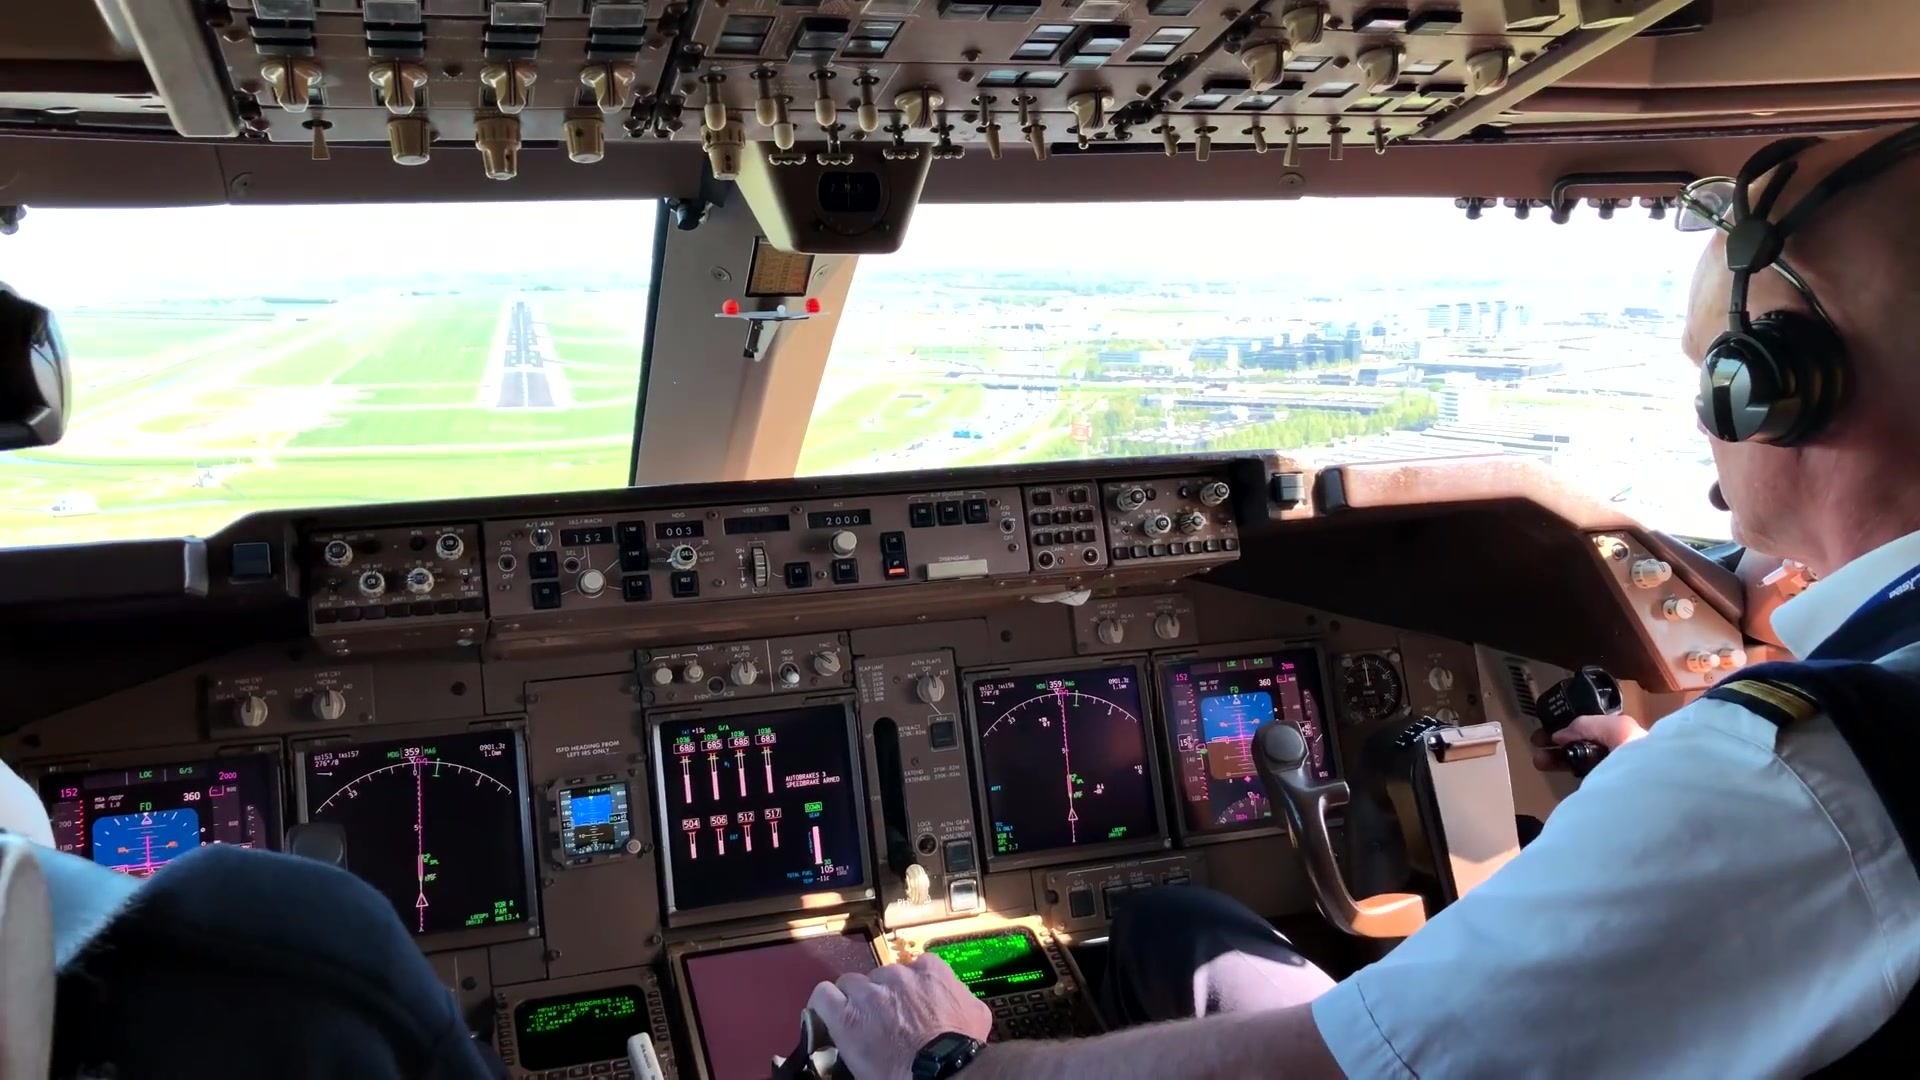runway: (493, 298, 554, 407)
